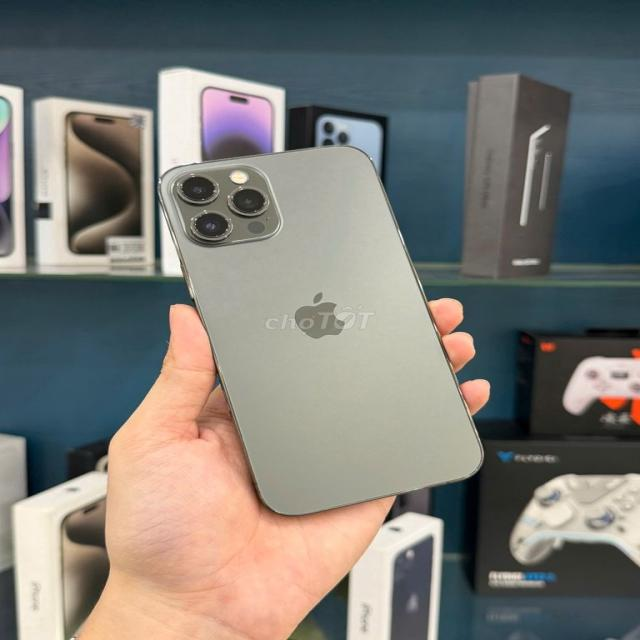gen_12_13: (160, 142, 488, 518)
